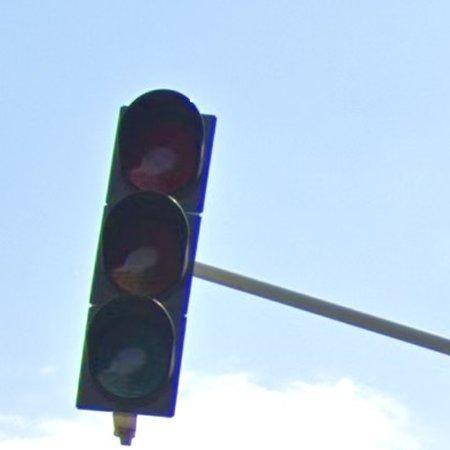traffic lights: (76, 86, 219, 418)
